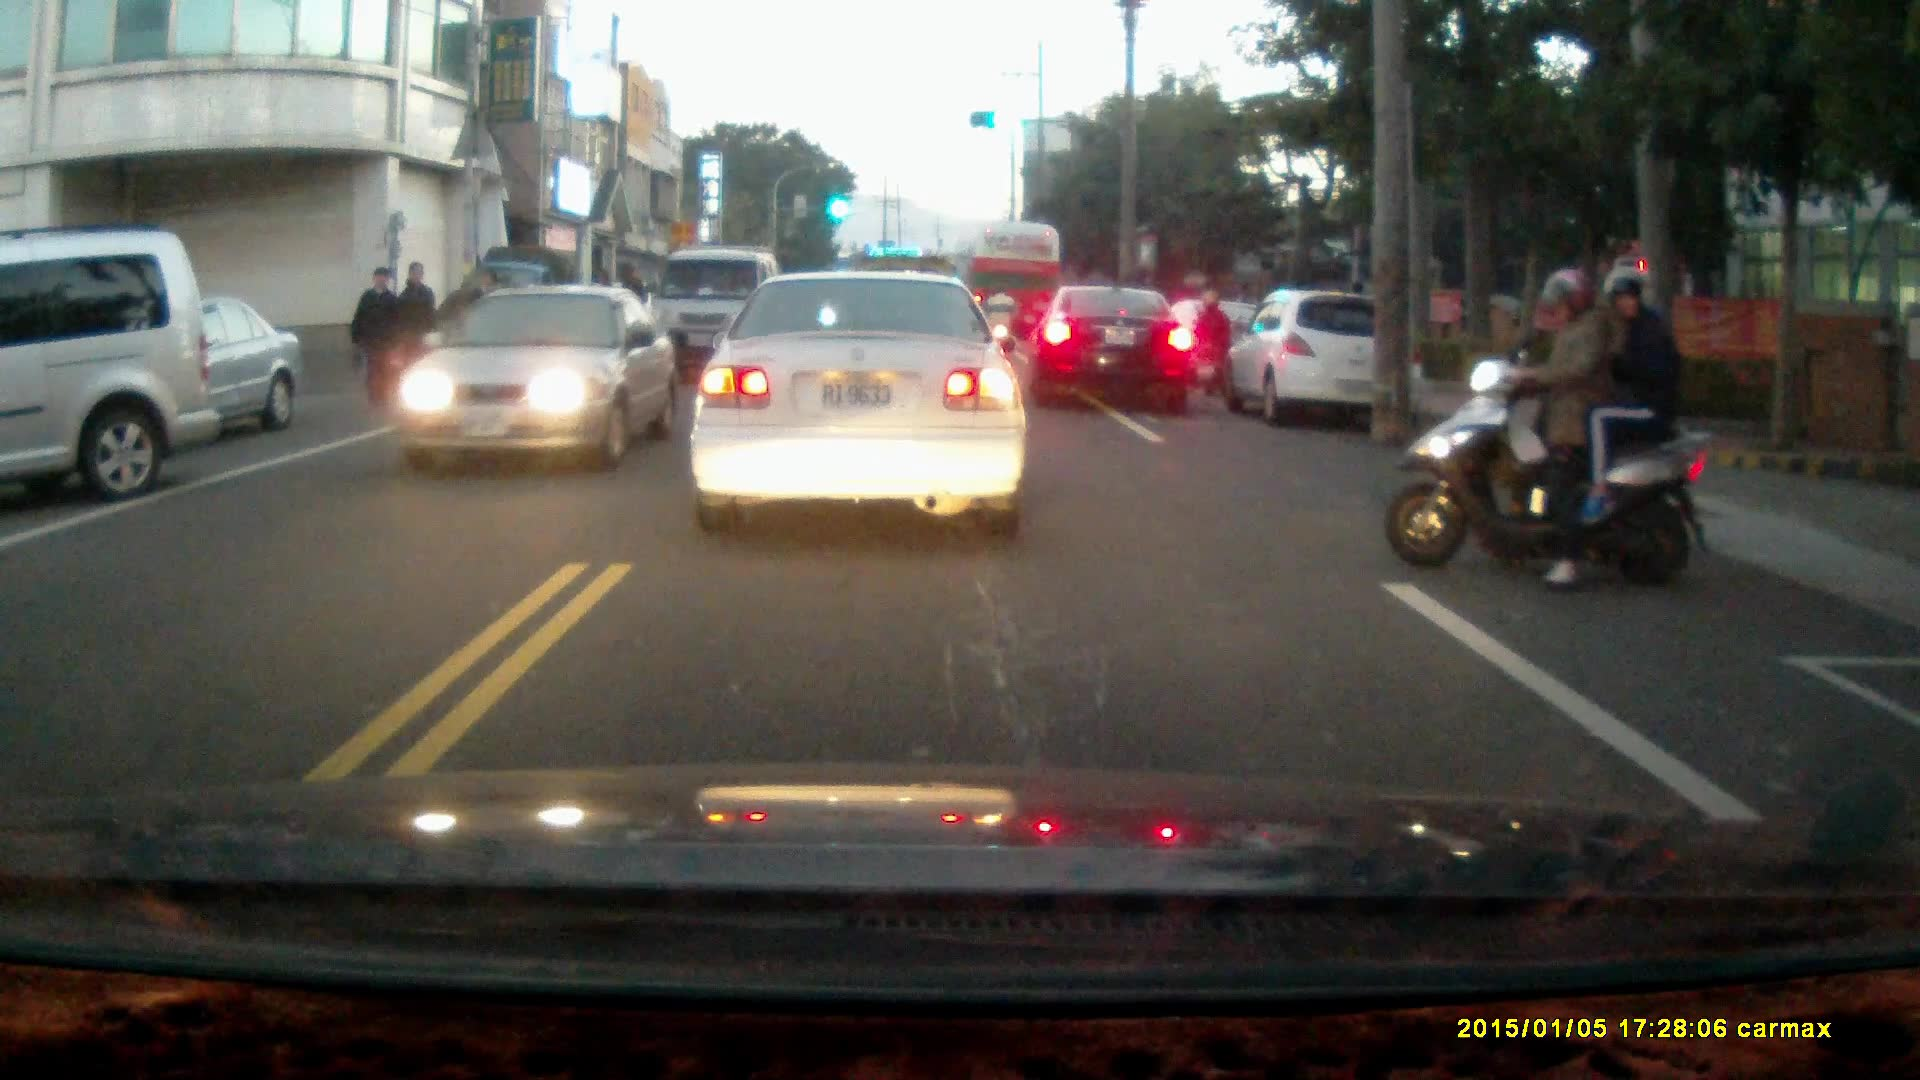pedestrian: (346, 262, 403, 416), (392, 261, 436, 395)
rider: (1385, 265, 1716, 593), (1187, 290, 1234, 399), (980, 285, 1019, 362)
vehicle: (689, 265, 1030, 539), (1, 222, 219, 504), (397, 285, 681, 476), (28, 291, 306, 440), (1232, 289, 1428, 433), (1028, 290, 1201, 416), (654, 247, 783, 382), (962, 221, 1067, 356)
